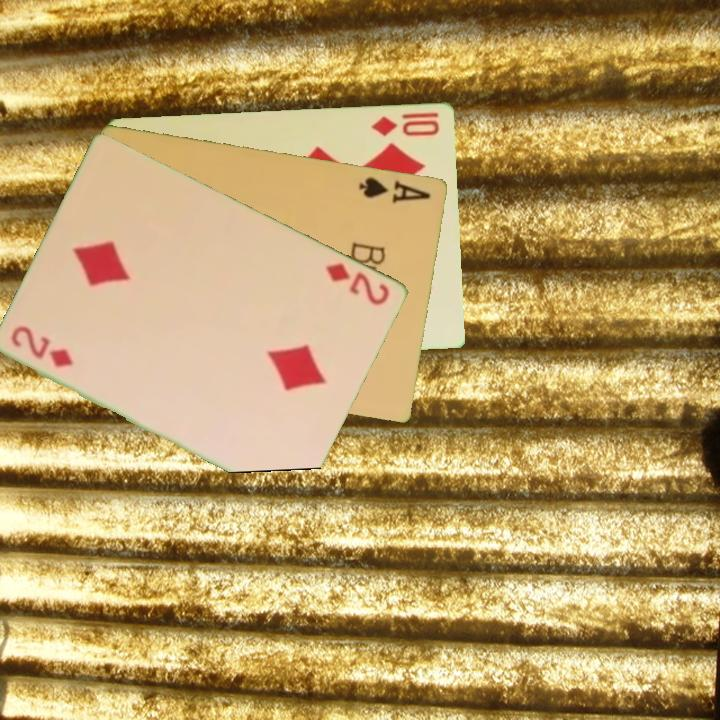10d: (368, 108, 443, 139)
2d: (322, 259, 393, 308), (8, 323, 77, 371)
As: (355, 173, 434, 206)
